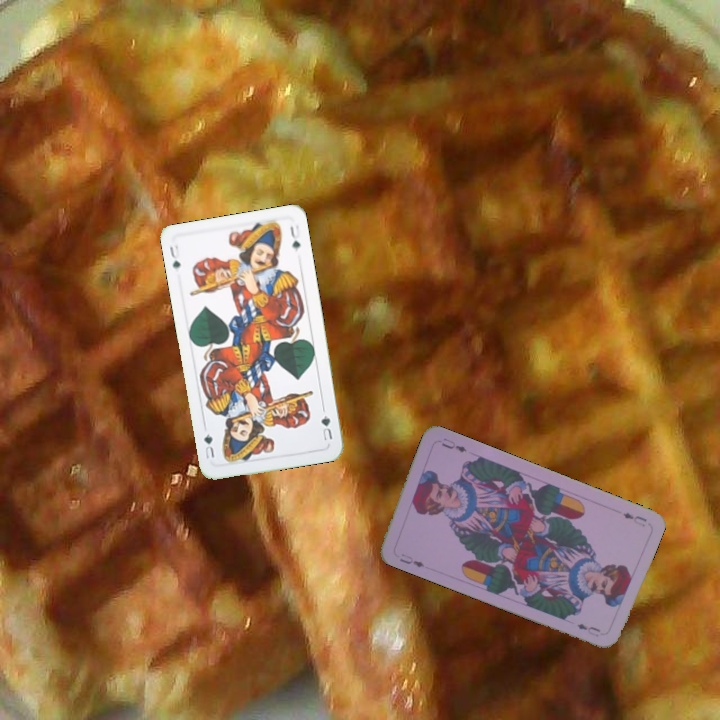EU: (396, 549, 427, 570), (619, 508, 650, 529)
GU: (317, 411, 335, 443), (166, 241, 183, 272)
